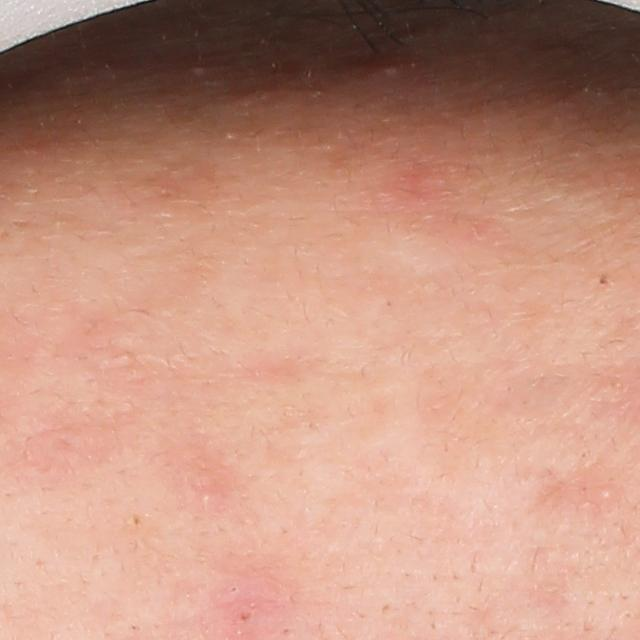comedo: (115, 349, 134, 363), (597, 487, 612, 502), (596, 272, 610, 288)
